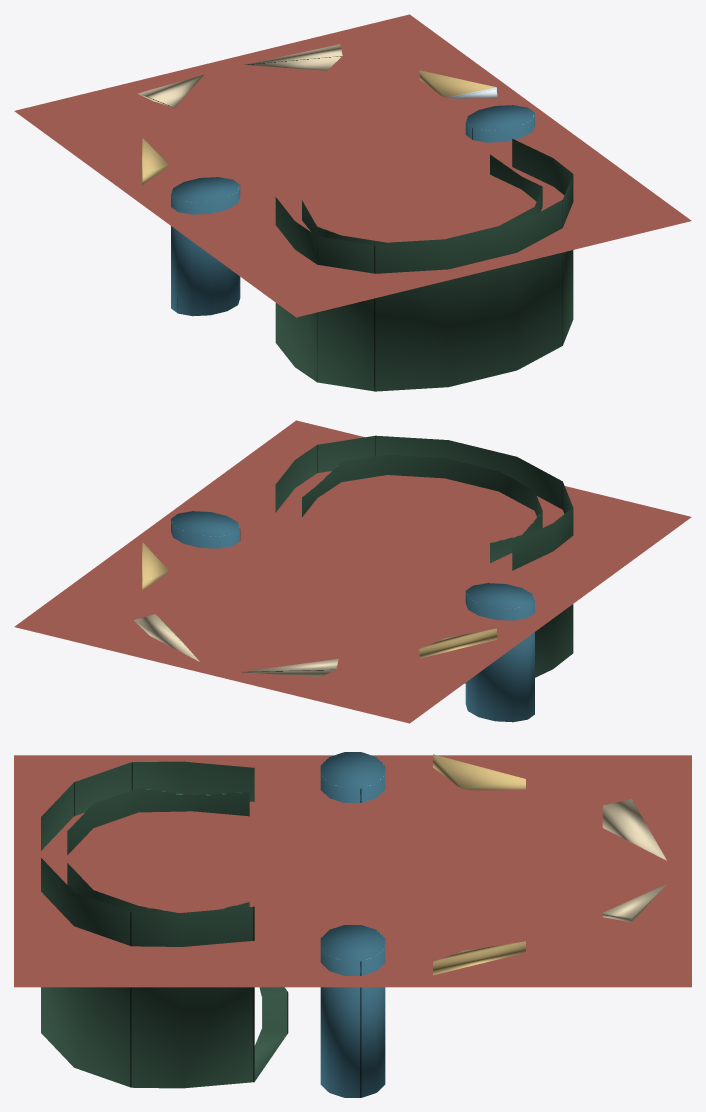
File: Pinball.gltf
3 renders of one model, top to bottom at view 1: azimuth 30°, elevation 25°; view 2: azimuth 150°, elevation 25°; view 3: azimuth 270°, elevation 25°, orthographic. The views are drawn at different scales.
Parts seen in each view (by area): view 1: plane, tube, pontos (×2), flipper (×2), triangulo_do_poder (×2); view 2: plane, tube, pontos (×2), flipper (×2), triangulo_do_poder (×2); view 3: plane, tube, pontos (×2), triangulo_do_poder (×2), flipper (×2).
Part boxes in pixels (left/top/right/bottom): plane: left=14, top=14, right=691, bottom=317; tube: left=275, top=139, right=573, bottom=391; pontos (×2): left=171, top=105, right=534, bottom=316; flipper (×2): left=138, top=44, right=342, bottom=107; triangulo_do_poder (×2): left=142, top=70, right=497, bottom=184; plane: left=14, top=420, right=691, bottom=723; tube: left=275, top=435, right=573, bottom=683; pontos (×2): left=171, top=511, right=534, bottom=722; flipper (×2): left=133, top=614, right=338, bottom=677; triangulo_do_poder (×2): left=142, top=542, right=497, bottom=658; plane: left=14, top=755, right=691, bottom=987; tube: left=41, top=761, right=288, bottom=1088; pontos (×2): left=320, top=752, right=385, bottom=1097; triangulo_do_poder (×2): left=433, top=754, right=525, bottom=975; flipper (×2): left=602, top=799, right=666, bottom=922.
Size of the model in its own units: 0.0996 by 0.0352 by 0.123.
Materials: 1 (1 with a texture image).
